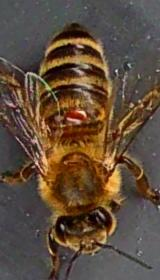varroa_mite: (62, 105, 88, 125)
